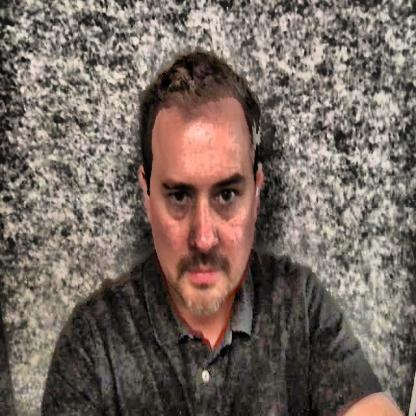not_wear: (138, 49, 264, 317)
